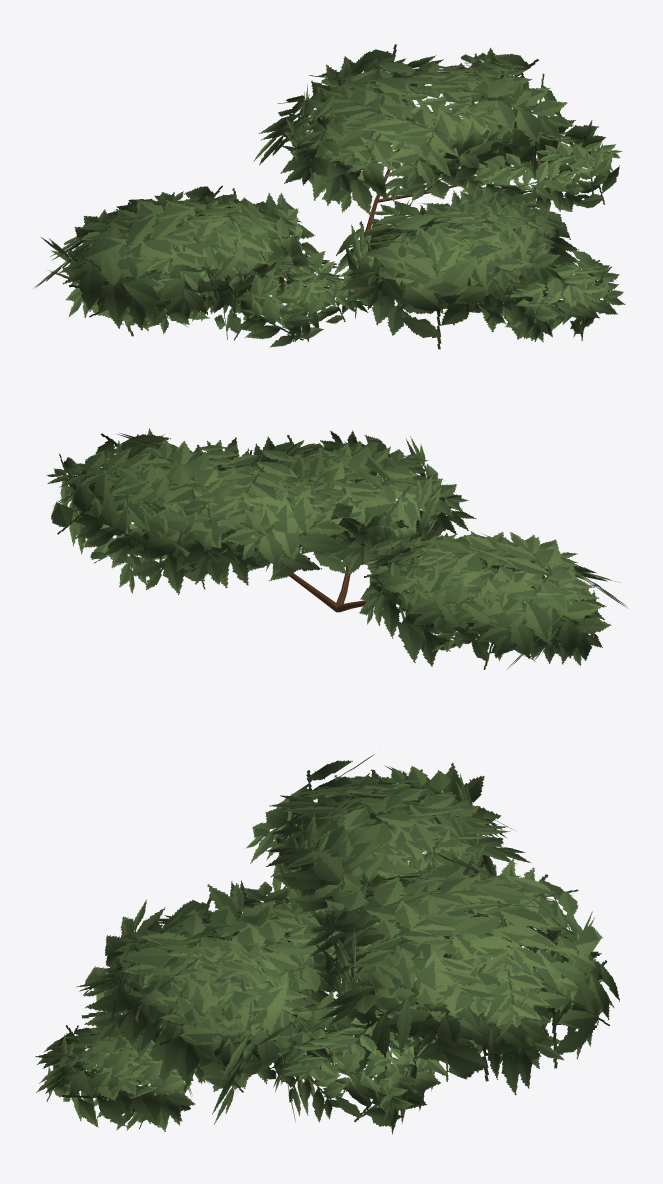
File: woodland_low.glb
The picture shows the model from 3 angles, top to bottom: view 1: azimuth 30°, elevation 25°; view 2: azimuth 150°, elevation 25°; view 3: azimuth 270°, elevation 25°; orthographic projection. The views are drawn at different scales.
Parts seen in each view (by area): view 1: woodland_low; view 2: woodland_low; view 3: woodland_low.
Part boxes in pixels (x1,y1,x2,y2): woodland_low: (33, 44, 625, 349); woodland_low: (46, 428, 626, 669); woodland_low: (35, 754, 619, 1134).
Size of the model in its own units: 1.76 by 0.6091 by 1.26.
2 materials, 2 textured.
